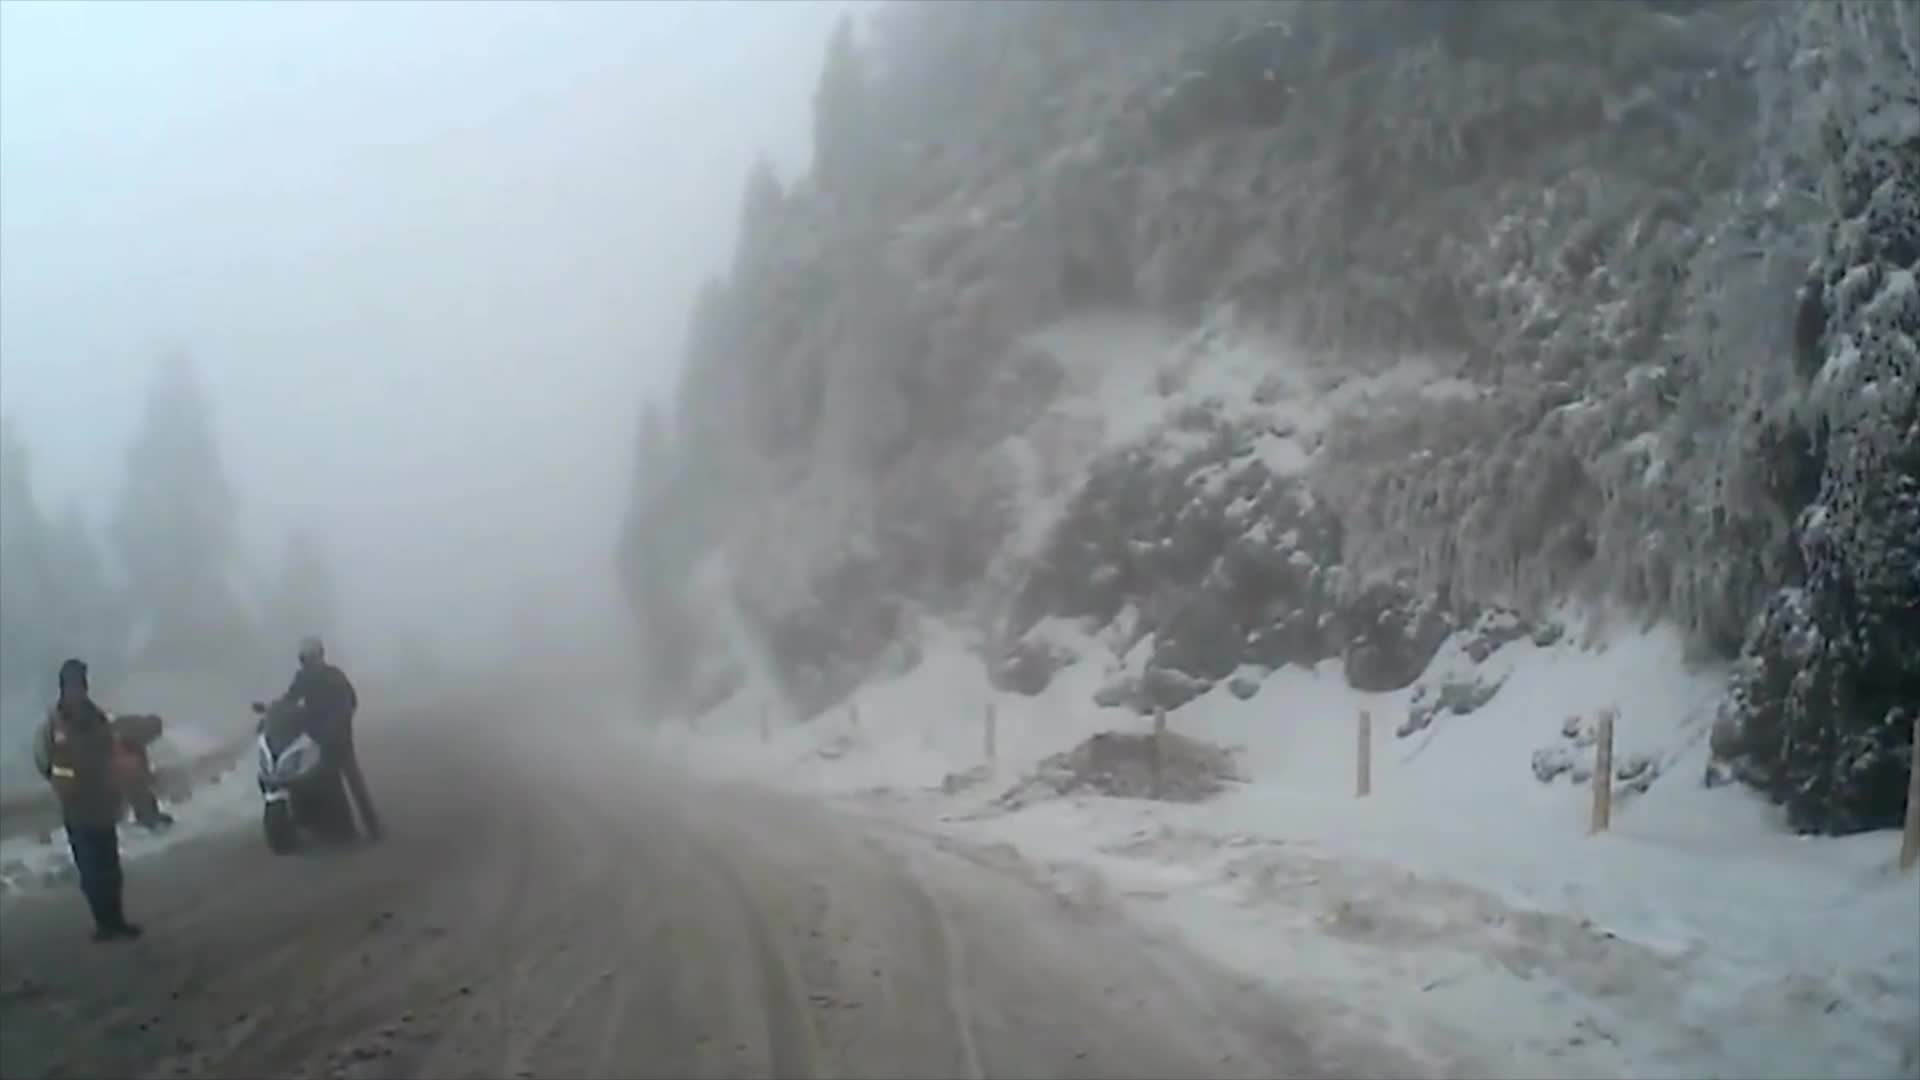pedestrian: (33, 663, 142, 946), (262, 632, 391, 852), (99, 713, 173, 835)
